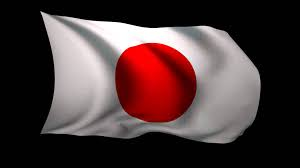Japanese Flag: (34, 9, 263, 150)
